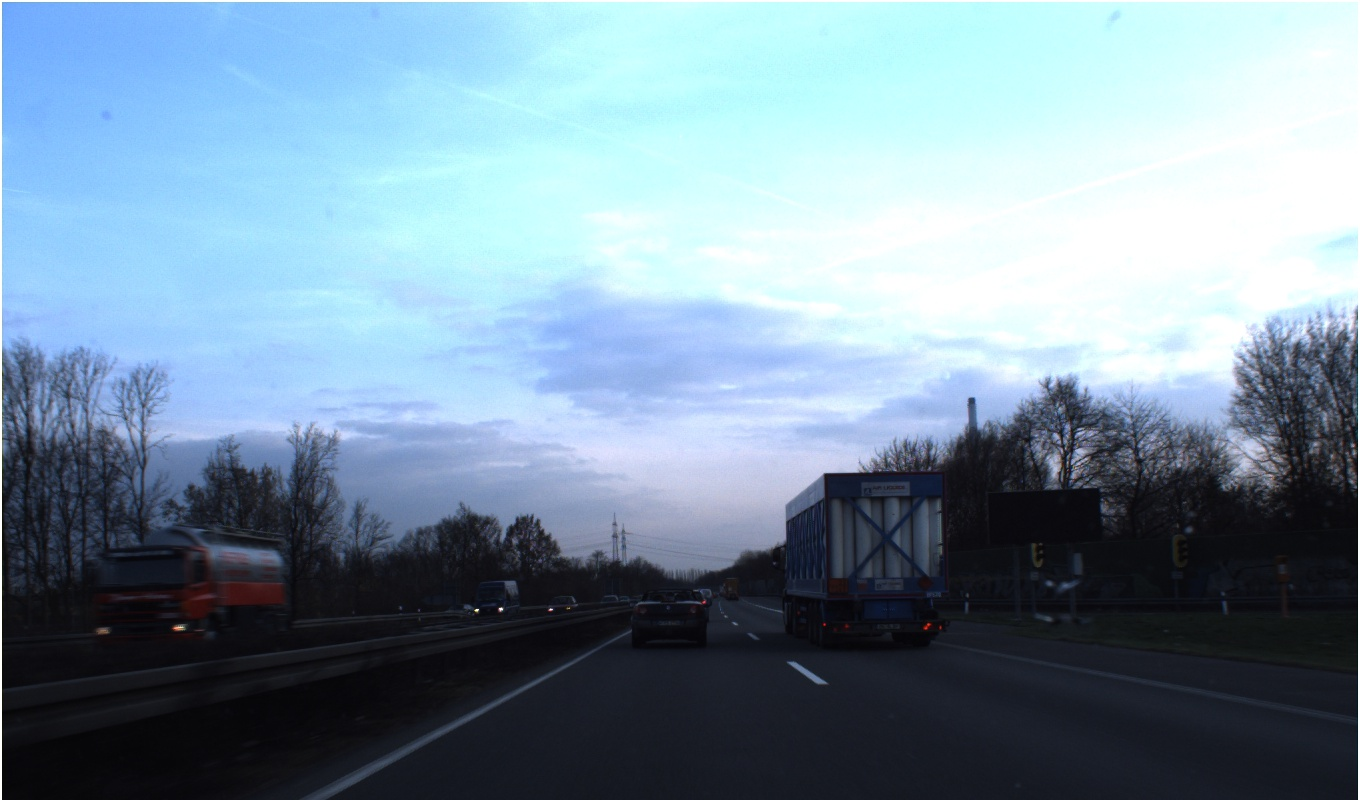car: (87, 528, 304, 658), (789, 495, 969, 649), (637, 600, 706, 642), (471, 576, 527, 618), (547, 585, 577, 615), (436, 603, 475, 622), (695, 589, 710, 621), (596, 589, 618, 608), (616, 586, 629, 606), (727, 584, 739, 603), (702, 586, 713, 605), (718, 581, 725, 598)
